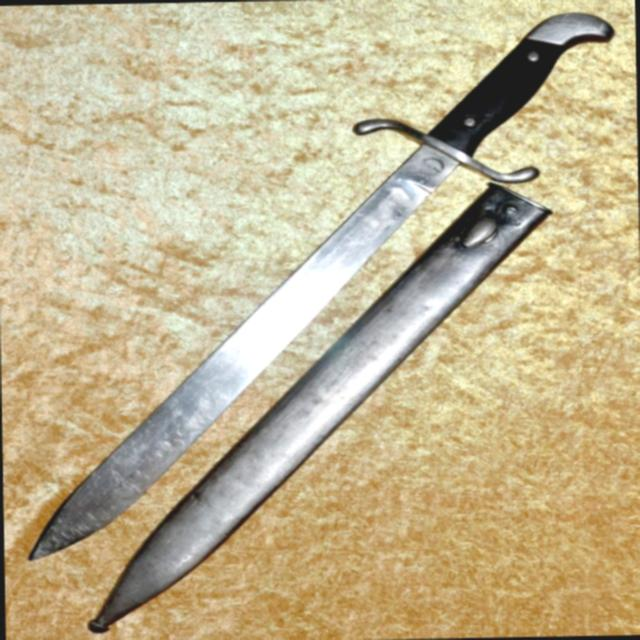short sword: (5, 6, 632, 639)
